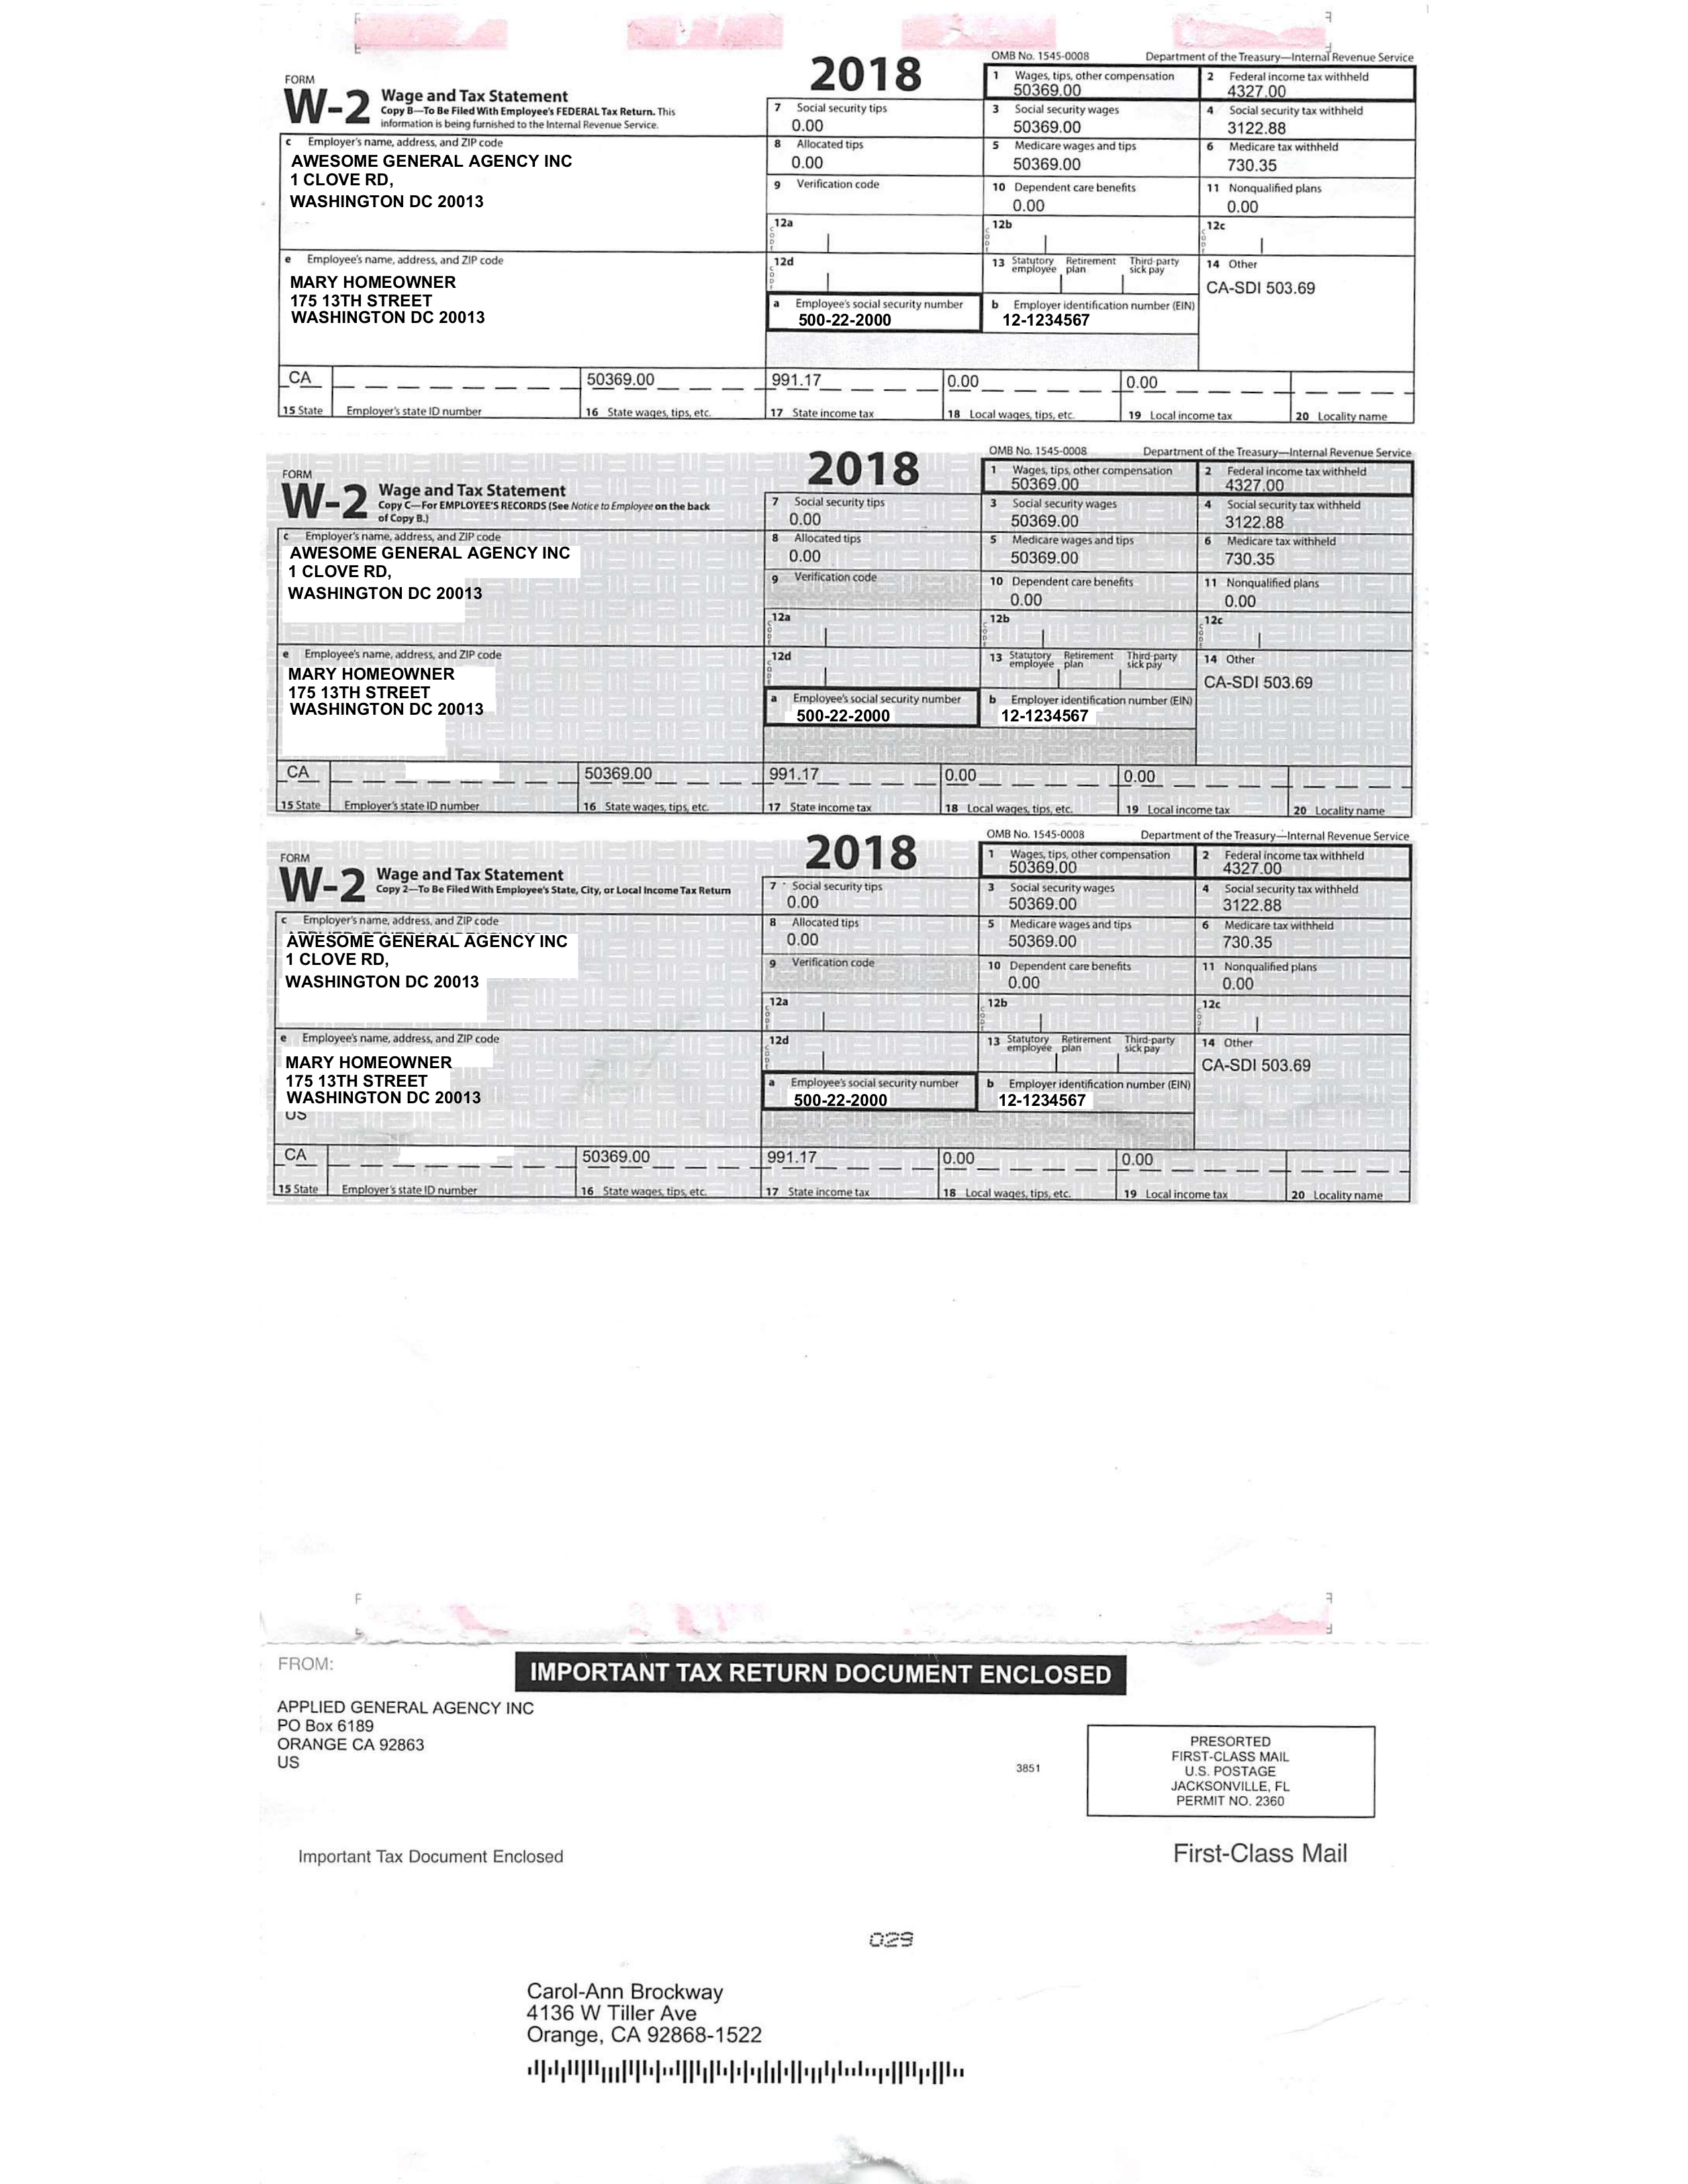table: (278, 53, 1417, 424), (275, 448, 1413, 819), (273, 833, 1411, 1204)
